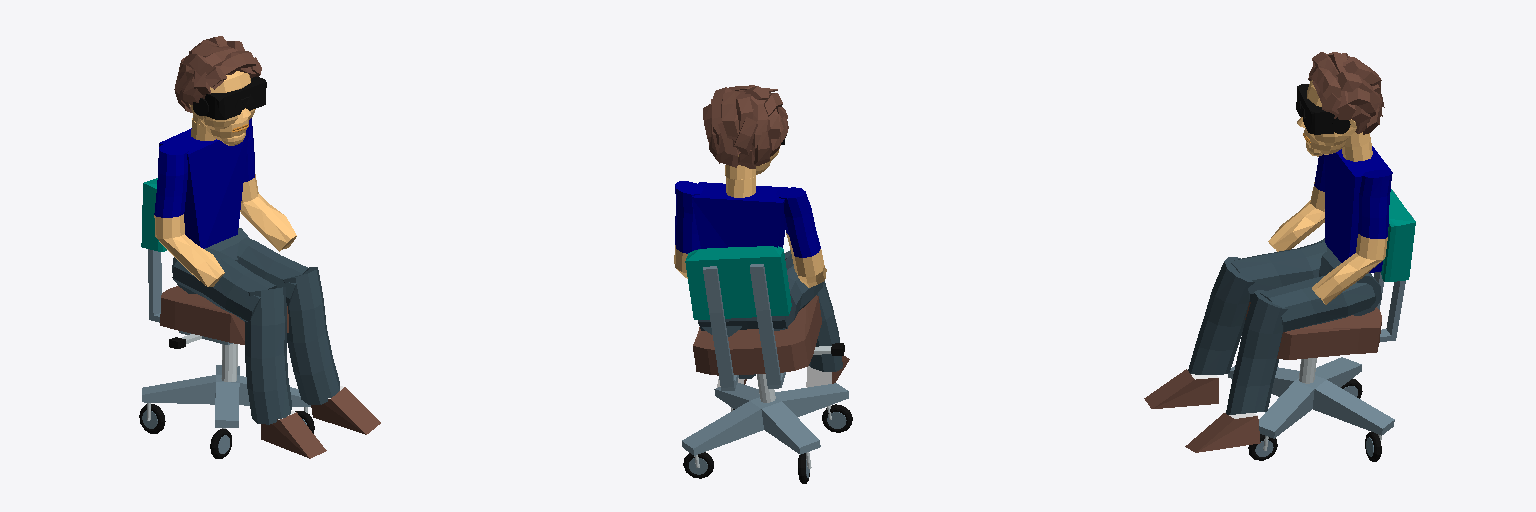
Rendered from blueStudent.obj.
3 renders of one model, left to right at view 1: azimuth 30°, elevation 25°; view 2: azimuth 150°, elevation 25°; view 3: azimuth 270°, elevation 25°, orthographic.
Parts seen in each view (by area): view 1: mesh[number redacted]; view 2: mesh[number redacted]; view 3: mesh[number redacted].
Boxes of the visible parts, box(x1,y1,x2,y2) form: mesh[number redacted]: box(139, 36, 380, 458); mesh[number redacted]: box(674, 85, 852, 483); mesh[number redacted]: box(1144, 52, 1415, 461).
Bounding box in the file's own units: 0.5962 × 1.32 × 0.8418.